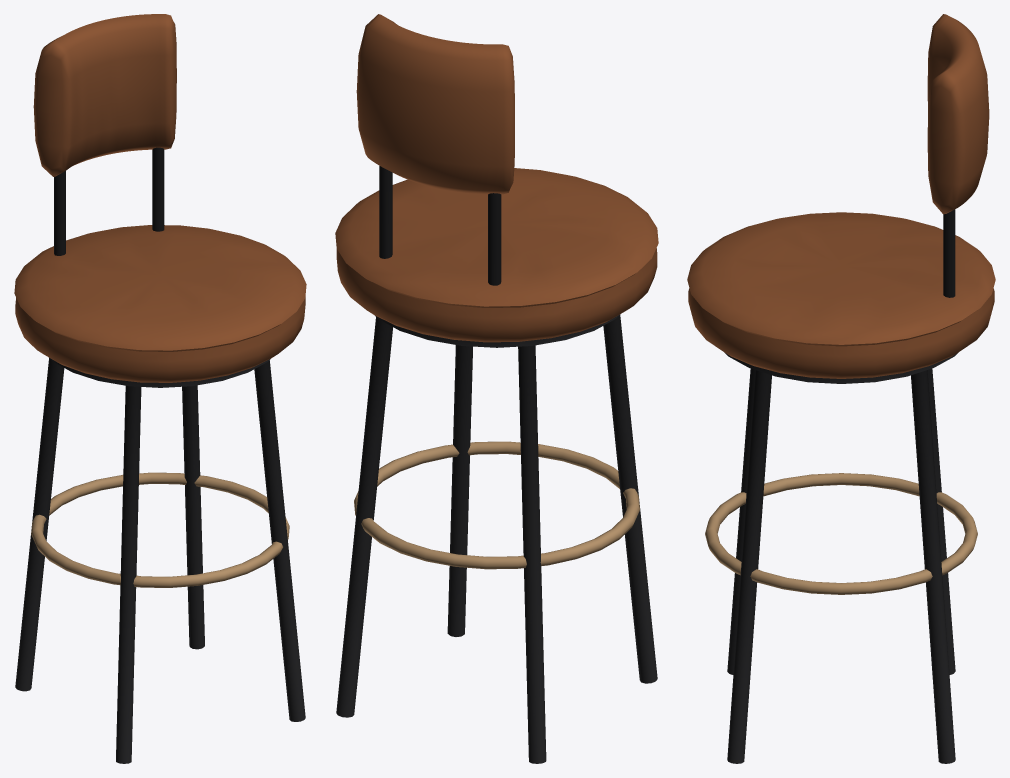
The model's file is kitchen_stool.gltf.
The picture shows the model from 3 angles, left to right: view 1: azimuth 30°, elevation 25°; view 2: azimuth 150°, elevation 25°; view 3: azimuth 270°, elevation 25°; orthographic projection. The views are drawn at different scales.
Visible parts, largest first — view 1: KitchenStool_Seat, KitchenStool_Back, KitchenStool_Leg2, KitchenStool_Leg3, KitchenStool_FootRing, KitchenStool_Leg1, KitchenStool_Leg0, KitchenStool_Post0, KitchenStool_Plate, KitchenStool_Post1; view 2: KitchenStool_Seat, KitchenStool_Back, KitchenStool_Leg1, KitchenStool_Leg0, KitchenStool_FootRing, KitchenStool_Leg2, KitchenStool_Leg3, KitchenStool_Post1, KitchenStool_Post0, KitchenStool_Plate; view 3: KitchenStool_Seat, KitchenStool_Back, KitchenStool_FootRing, KitchenStool_Leg3, KitchenStool_Leg0, KitchenStool_Leg1, KitchenStool_Leg2, KitchenStool_Post0, KitchenStool_Plate.
Part boxes in pixels (x1=…): KitchenStool_Seat: x1=14, y1=225, x2=306, y2=382; KitchenStool_Back: x1=33, y1=14, x2=176, y2=176; KitchenStool_Leg2: x1=116, y1=386, x2=141, y2=763; KitchenStool_Leg3: x1=254, y1=360, x2=305, y2=721; KitchenStool_FootRing: x1=31, y1=472, x2=289, y2=587; KitchenStool_Leg1: x1=15, y1=358, x2=64, y2=691; KitchenStool_Leg0: x1=182, y1=385, x2=204, y2=649; KitchenStool_Post0: x1=152, y1=147, x2=164, y2=231; KitchenStool_Plate: x1=49, y1=357, x2=270, y2=387; KitchenStool_Post1: x1=54, y1=171, x2=65, y2=255; KitchenStool_Seat: x1=335, y1=168, x2=658, y2=342; KitchenStool_Back: x1=356, y1=14, x2=514, y2=194; KitchenStool_Leg1: x1=518, y1=345, x2=546, y2=763; KitchenStool_Leg0: x1=336, y1=317, x2=392, y2=717; KitchenStool_FootRing: x1=354, y1=441, x2=639, y2=569; KitchenStool_Leg2: x1=603, y1=315, x2=657, y2=683; KitchenStool_Leg3: x1=447, y1=345, x2=472, y2=636; KitchenStool_Post1: x1=488, y1=193, x2=501, y2=285; KitchenStool_Post0: x1=379, y1=166, x2=392, y2=258; KitchenStool_Plate: x1=375, y1=314, x2=620, y2=347; KitchenStool_Seat: x1=687, y1=212, x2=995, y2=378; KitchenStool_Back: x1=927, y1=14, x2=989, y2=214; KitchenStool_FootRing: x1=705, y1=473, x2=977, y2=594; KitchenStool_Leg3: x1=727, y1=370, x2=771, y2=763; KitchenStool_Leg0: x1=911, y1=370, x2=955, y2=763; KitchenStool_Leg1: x1=927, y1=368, x2=955, y2=674; KitchenStool_Leg2: x1=727, y1=368, x2=755, y2=674; KitchenStool_Post0: x1=943, y1=209, x2=955, y2=297; KitchenStool_Plate: x1=724, y1=352, x2=958, y2=383.
Size of the model in its own units: 0.413 by 0.9955 by 0.413.
